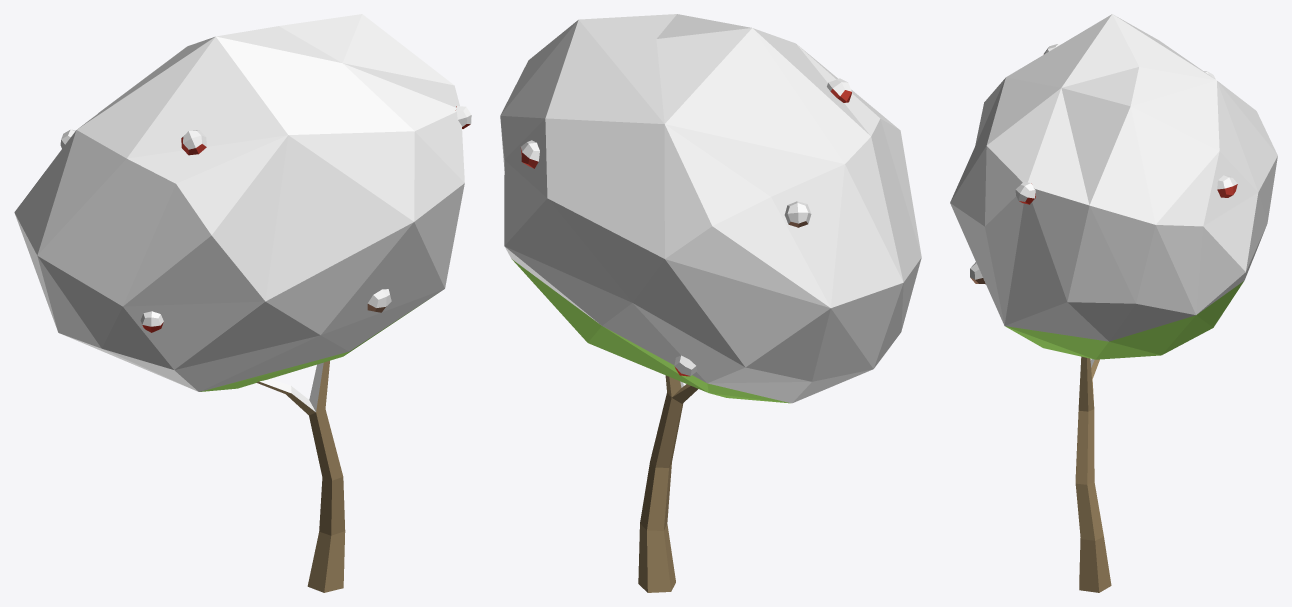
File: Apple_Tree_Apples_m_Snow_01_LOD.fbx
3 renders of one model, left to right at view 1: azimuth 30°, elevation 25°; view 2: azimuth 150°, elevation 25°; view 3: azimuth 270°, elevation 25°, orthographic. The views are drawn at different scales.
Parts seen in each view (by area): view 1: Apple_Tree_Apples_m_Snow_01_LOD0; view 2: Apple_Tree_Apples_m_Snow_01_LOD0; view 3: Apple_Tree_Apples_m_Snow_01_LOD0.
Boxes of the visible parts, left/top/right/bottom form: Apple_Tree_Apples_m_Snow_01_LOD0: left=14, top=14, right=471, bottom=592; Apple_Tree_Apples_m_Snow_01_LOD0: left=500, top=14, right=921, bottom=592; Apple_Tree_Apples_m_Snow_01_LOD0: left=950, top=14, right=1277, bottom=592.
Size of what is drawn, in the model's own units: 538 by 749 by 423.
